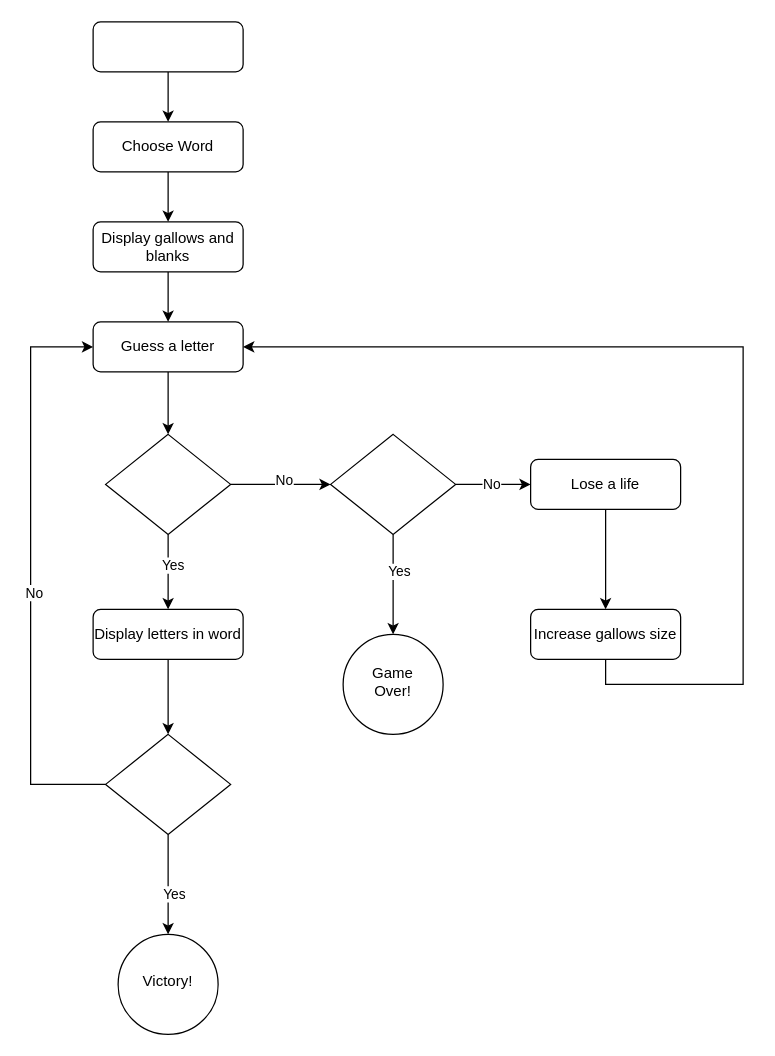
The diagram is 775 pixels wide and 1056 high, and some of its shapes have lost their labels. The shapes that lost their labels are listed below. From the top down, each one's box as (x1, y1, x2, y2) in pixels, then its label:
(92, 21, 243, 72): Start Hangman
(104, 433, 231, 534): Correct guess?
(329, 433, 456, 534): No more lives?
(104, 733, 231, 834): Word complete?
